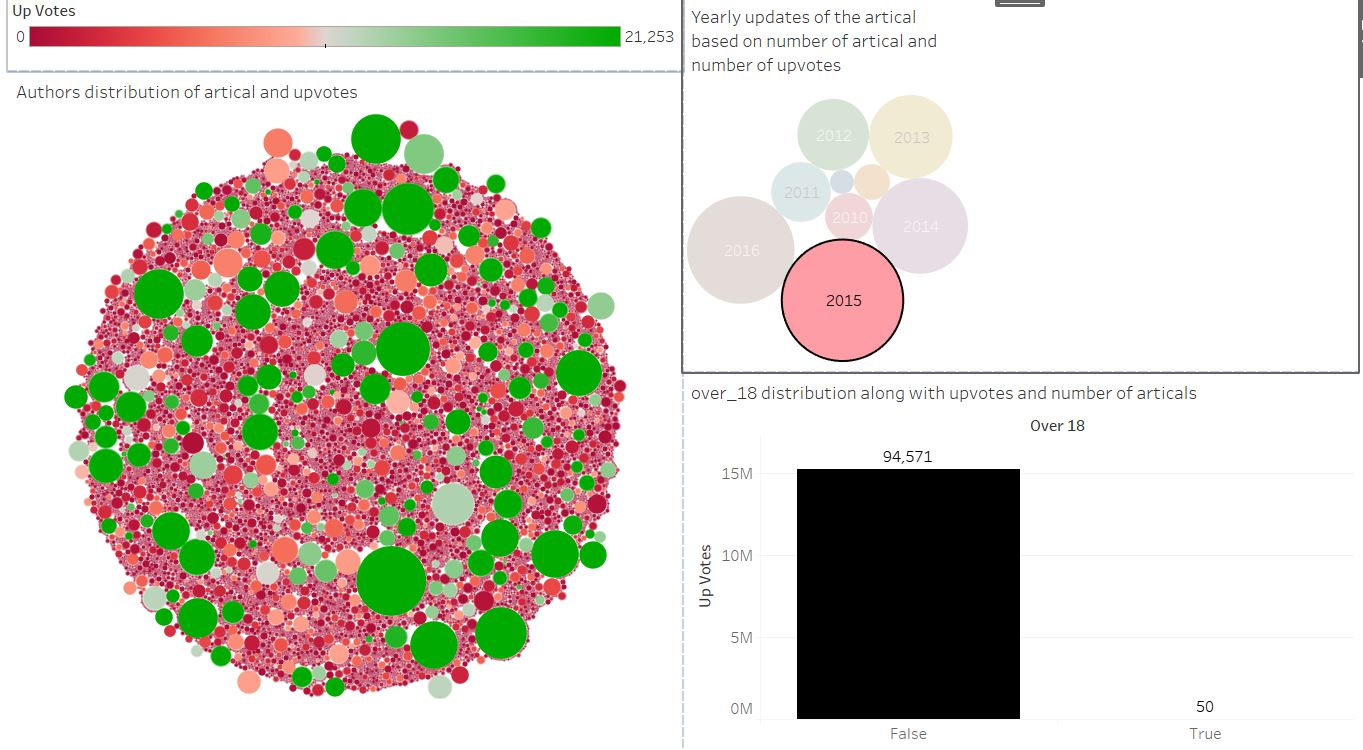

Layout of this report page (visuals, bound fields, positions):
{"tool":"tableau","page":{"name":"Dashboard 1","canvas":[1366,768],"ordinal":0},"visuals":[{"type":"legend","title":"Sheet 1","param":"[federated.1ng5zmb0twoplm18mtbw31p7slgy].[sum:up_votes:qk]","box":[8,8,675,75]},{"type":"worksheet","title":"Sheet 2","mark":"Circle","box":[683,8,675,376]},{"type":"worksheet","title":"Sheet 1","mark":"Circle","box":[8,83,675,677]},{"type":"worksheet","title":"Sheet 3","mark":"Bar","rows":["up_votes"],"cols":["over_18"],"box":[683,384,675,376]}]}

Visuals, with their boxes in screenshot pixels (x1, y1, x2, y2), scaled from the page's 1366x768 canvas onto the 1363x750 screenshot:
"Sheet 1" legend: BBox(8, 8, 682, 81)
"Sheet 2" worksheet (Circle marks): BBox(682, 8, 1355, 375)
"Sheet 1" worksheet (Circle marks): BBox(8, 81, 682, 742)
"Sheet 3" worksheet (Bar marks): BBox(682, 375, 1355, 742)
